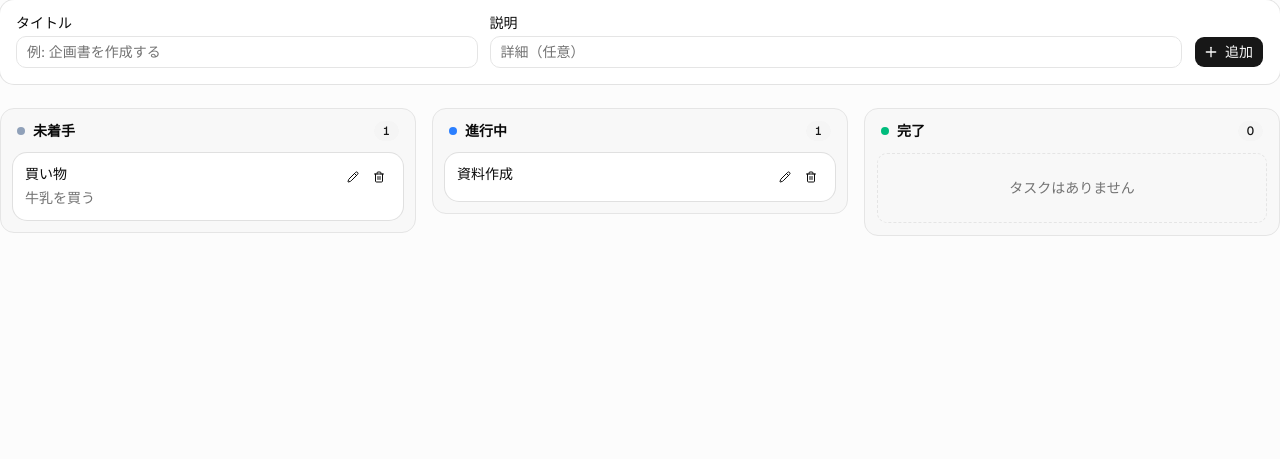
Test: 編集 › タイトルとステータスを変えて保存すると応答を待たずに別の列へ移動する
Click the button named "編集" in the row of "買い物".
click(353, 177)  # box [341, 165, 365, 189]
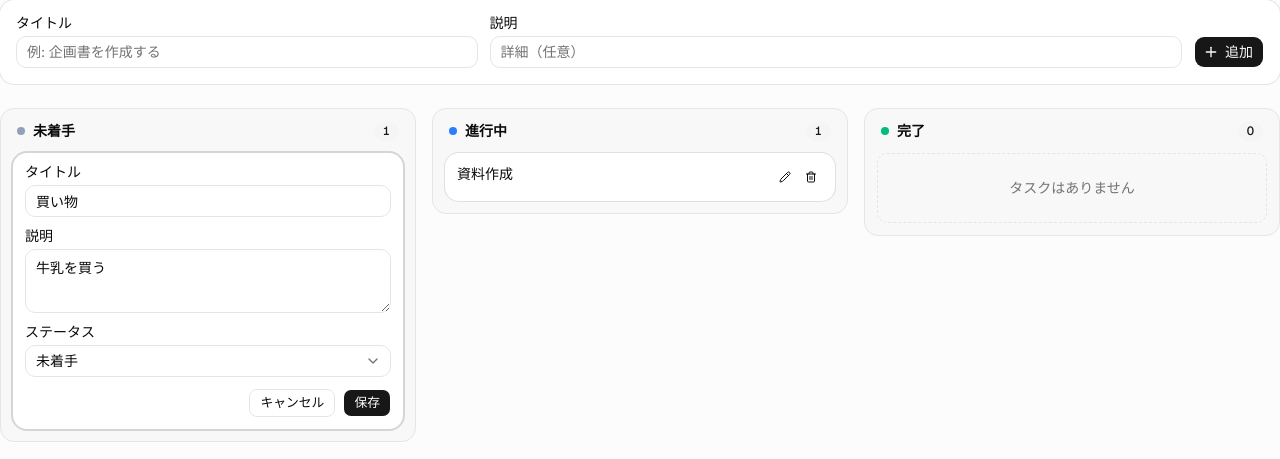
Replace the text in the field labelled "タイトル" below "未着手" with "買い出し" at (208,201), box [25, 185, 391, 217]
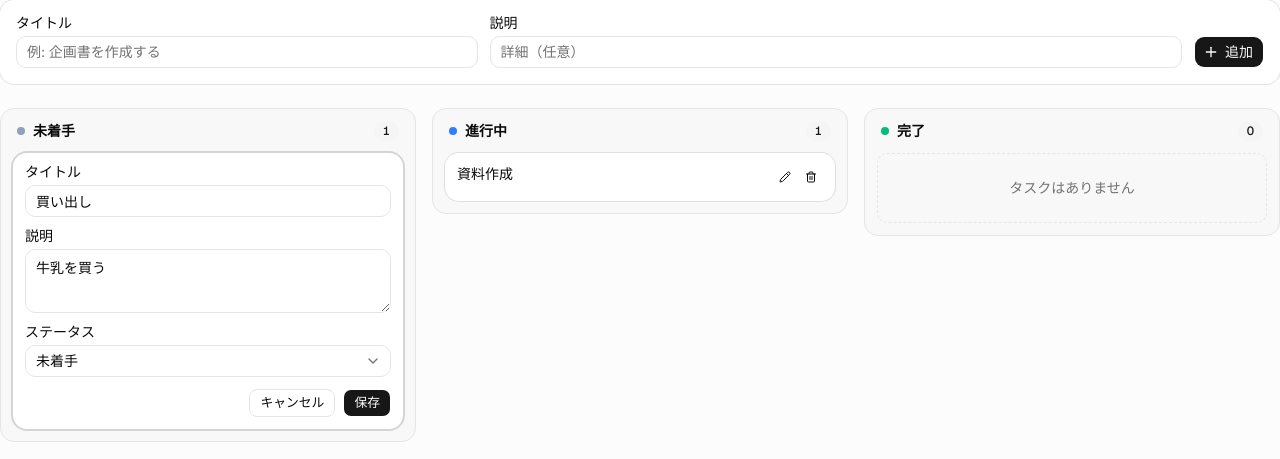
Select "完了" in the dropdown labelled "ステータス" at (208,361), box [25, 345, 391, 377]
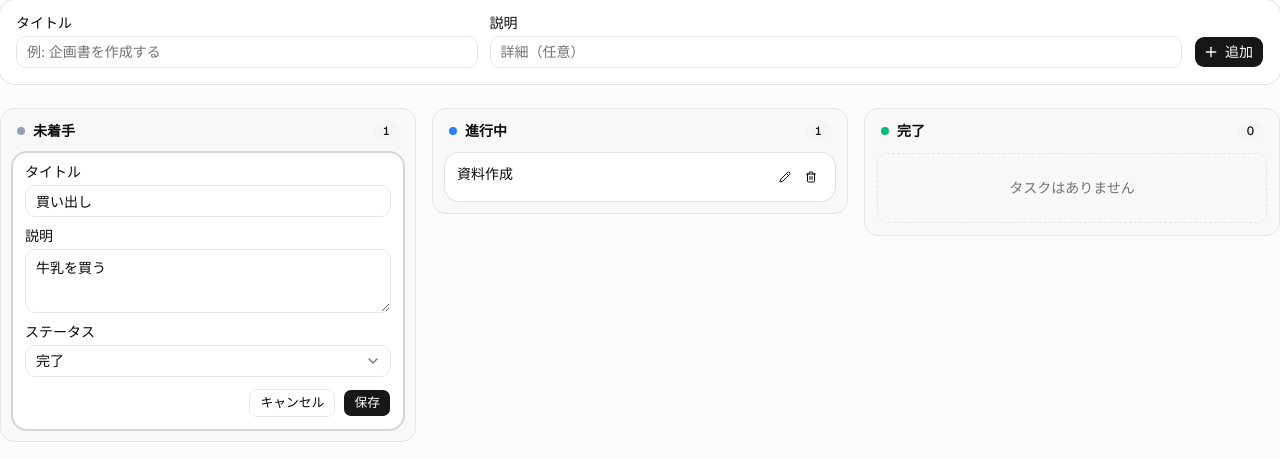
Click the button "保存".
click(367, 403)  # box [343, 389, 391, 417]
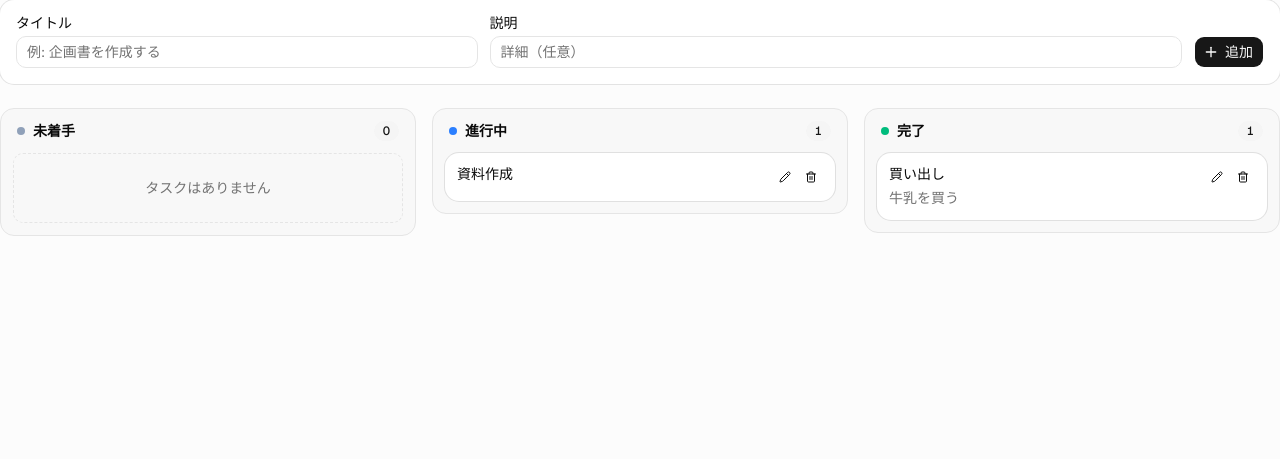
Expected: the element "買い出し" is shown, [877, 153, 1267, 220]
Expected: the field labelled "買い物" is gone
Expected: the form "タスクを編集" is gone
